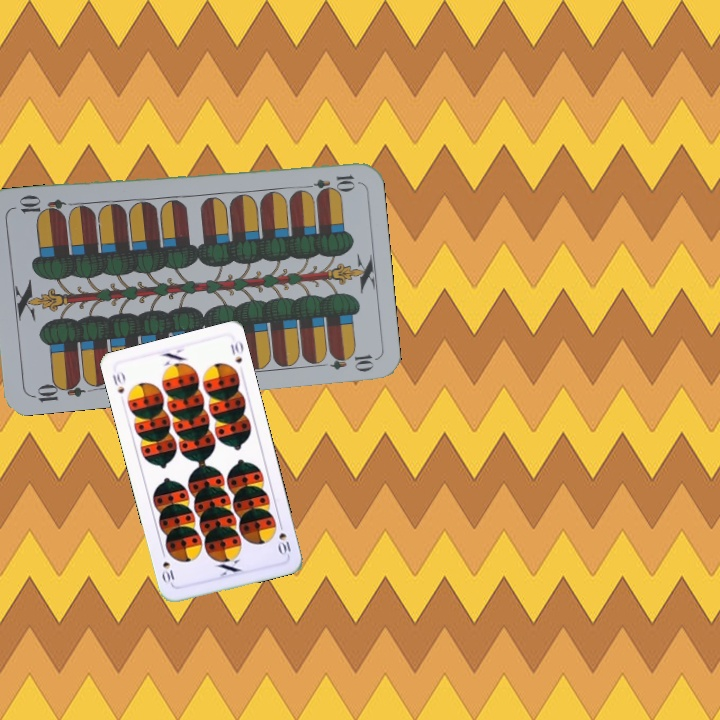E10: (27, 375, 86, 405), (298, 171, 358, 193)
S10: (274, 518, 293, 557), (108, 367, 128, 396)
